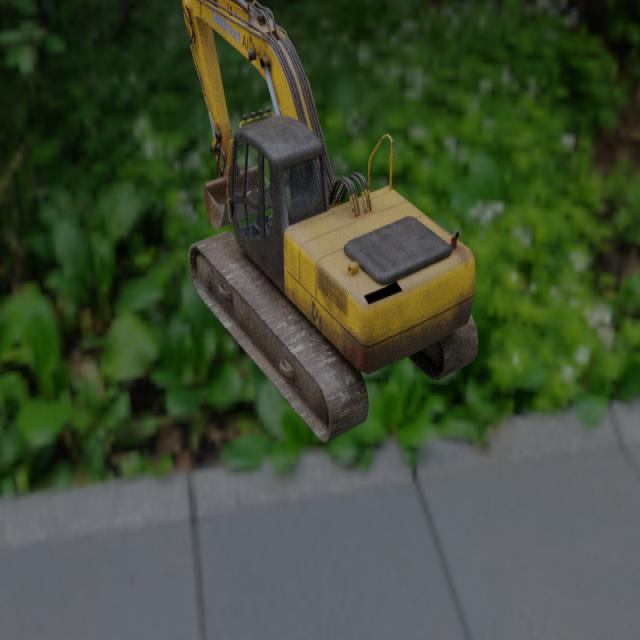excavator: (179, 0, 478, 444)
